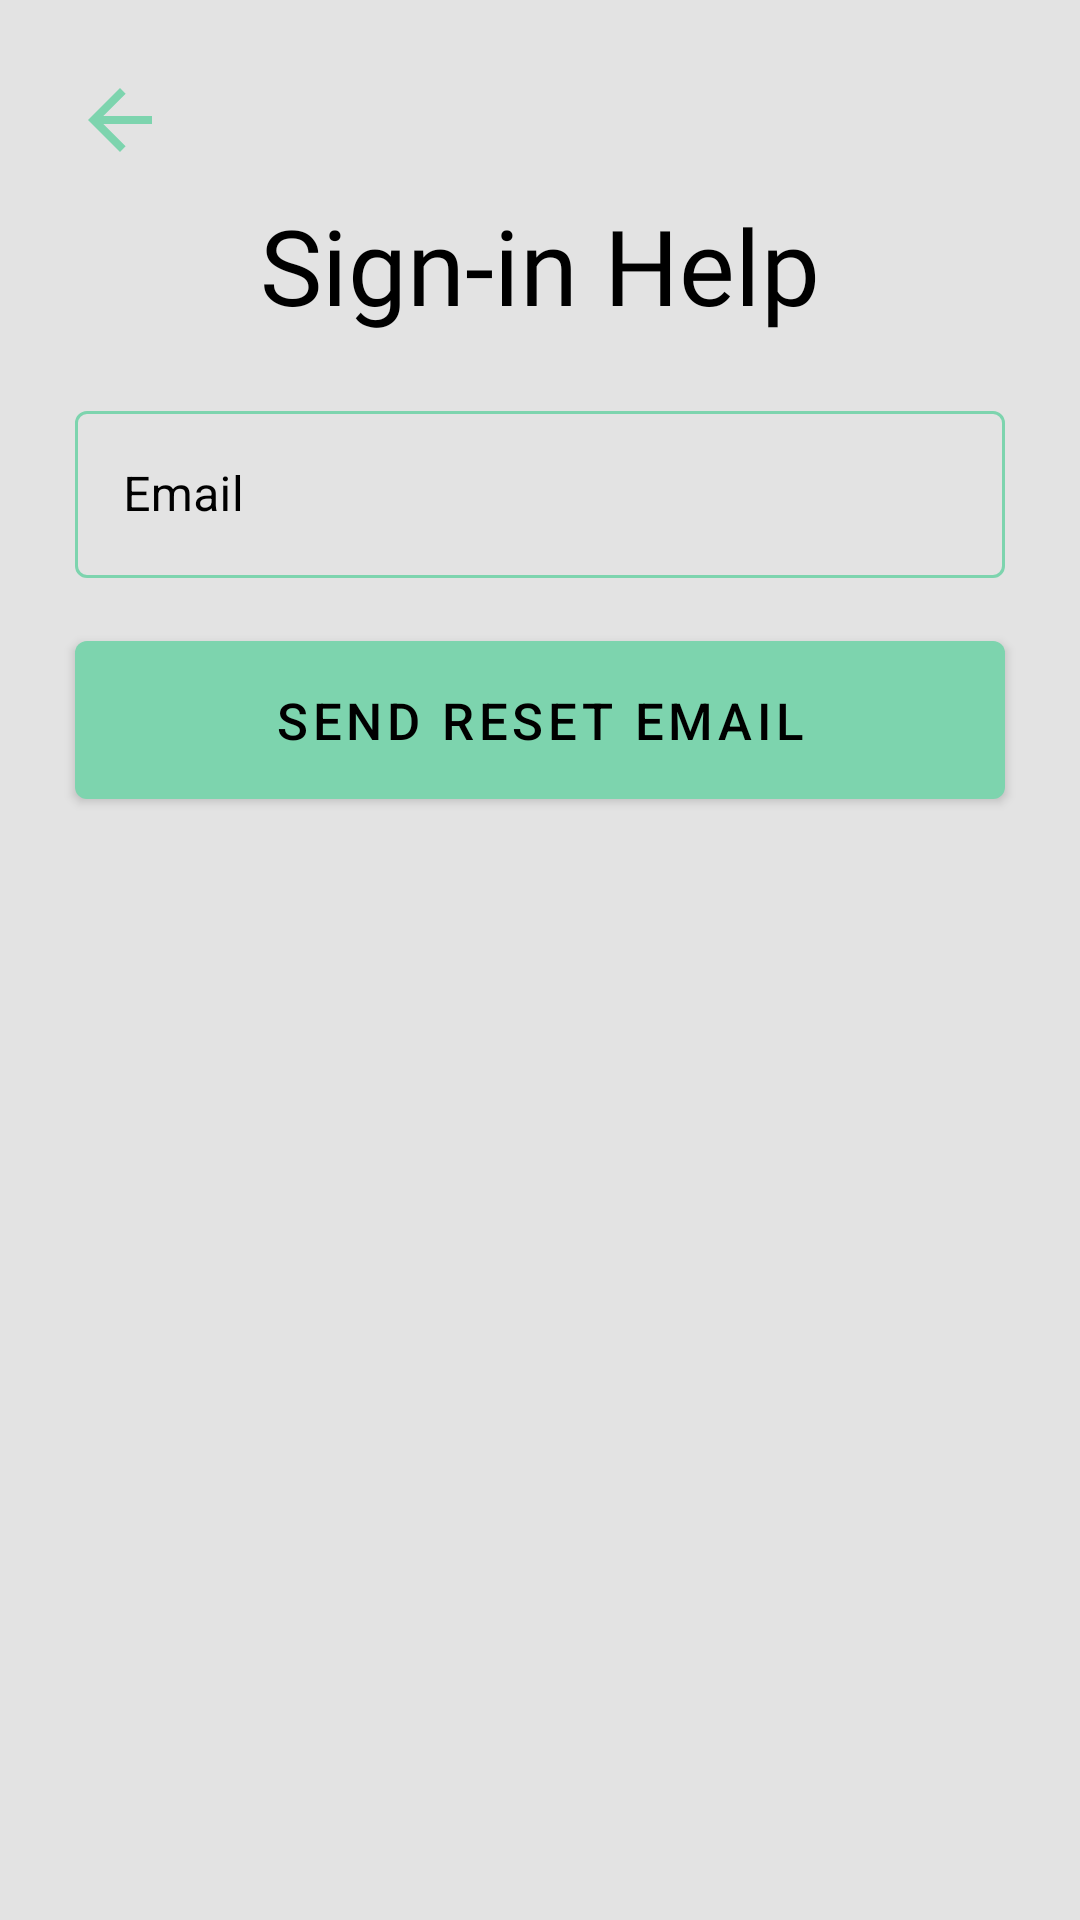

Where icons sit on this 1080×1920 app screen, as {"left": x1, "top": y1, "right": x2, "bottom": y2}:
arrow back: {"left": 88, "top": 88, "right": 152, "bottom": 152}
